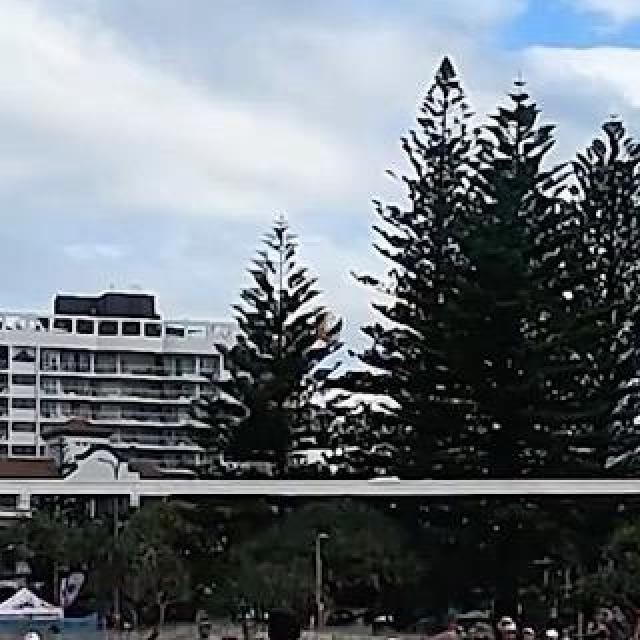volleyball: (315, 310, 343, 342)
